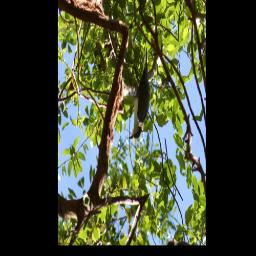Cuckoo: (112, 47, 165, 146)
